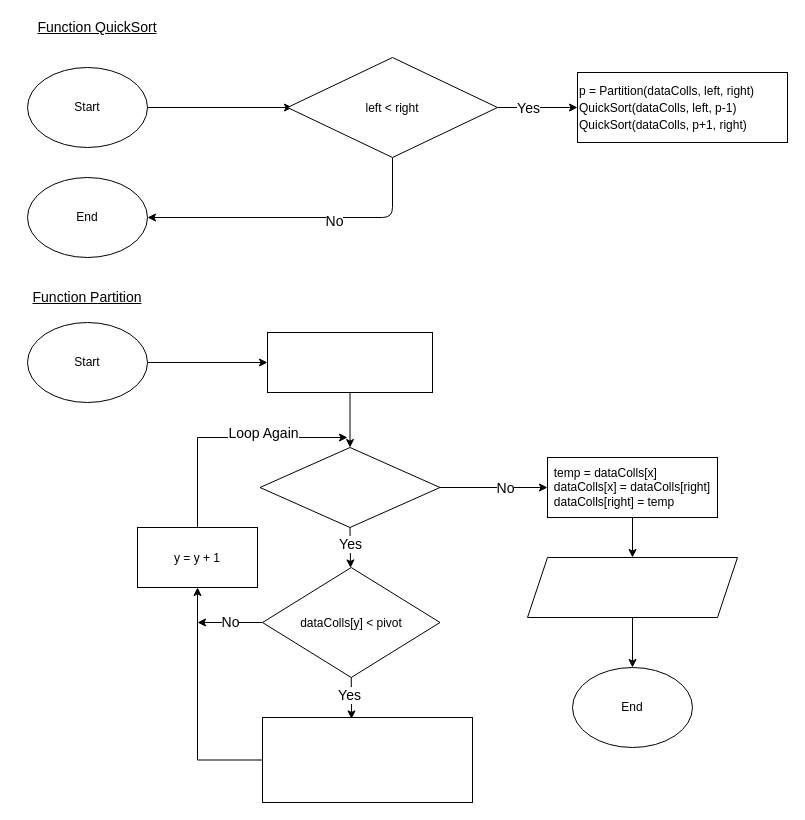
The diagram is 805 pixels wide and 820 high, and some of its shapes have lost their labels. The shapes that lost their labels are listed below. From the top down, each one's centre as x and y in pixels, then its label:
At point (349, 362): "pivot = dataColls[right] x = left y = left".
At point (349, 487): "y < right".
At point (632, 587): "Print dataColls per each iteration".
At point (367, 759): "temp = dataColls[x] dataColls[x] = dataColls[y] dataColls[y] = temp x = x + 1".
